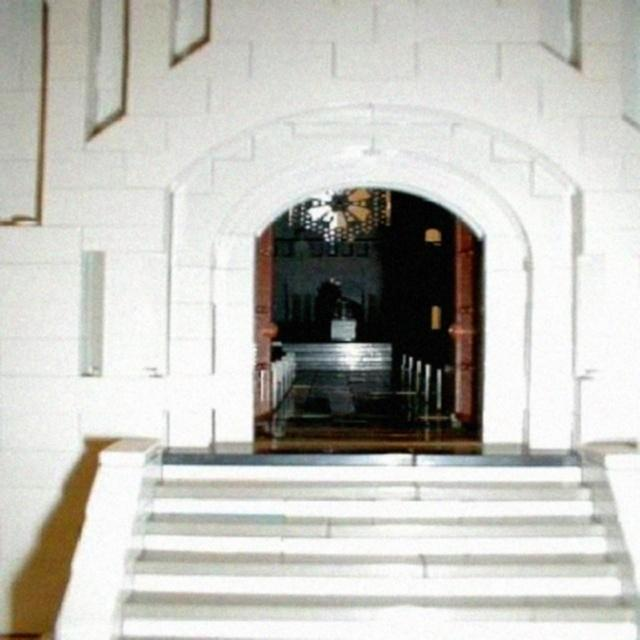stair: (120, 440, 638, 640)
